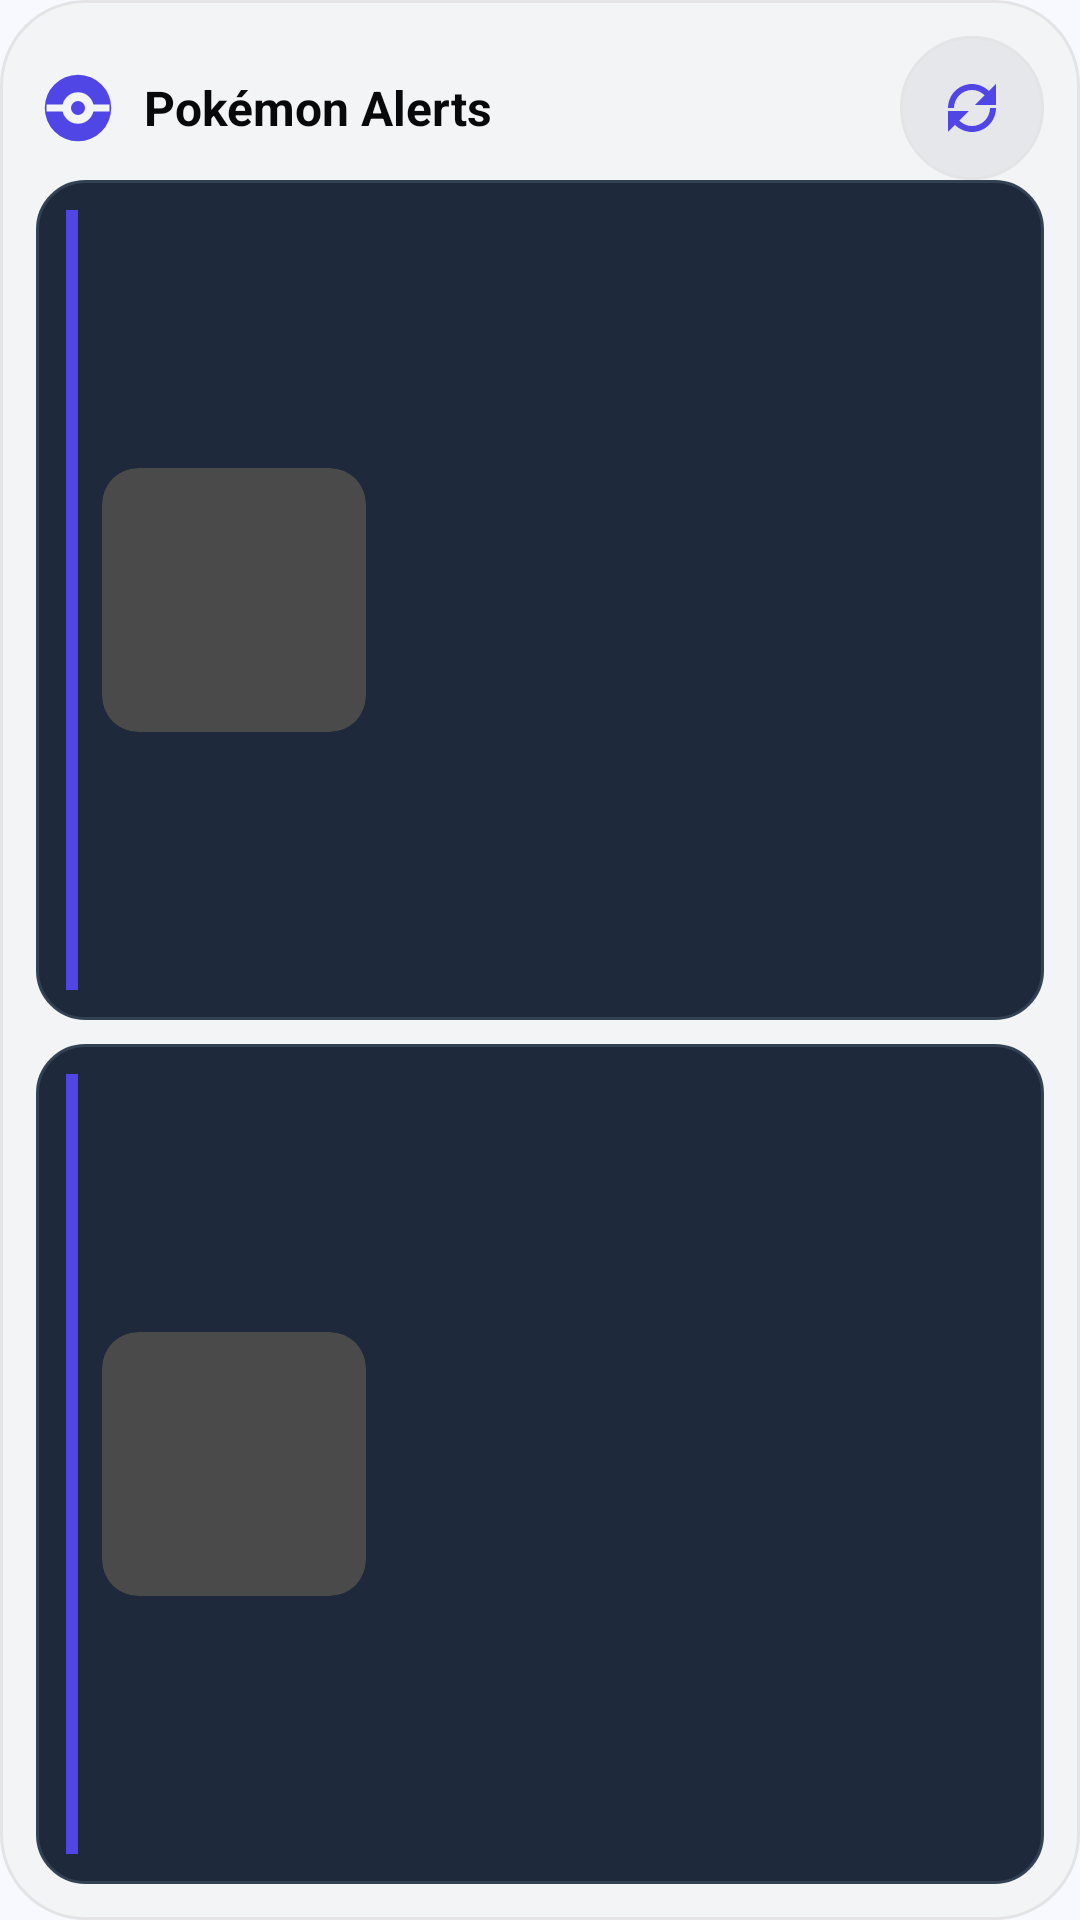

Locate icon controls on the screen. Image size 1080w x 1920h, boxes as (x1, y1, x2, y2).
Refresh alerts: (900, 36, 1044, 180)
